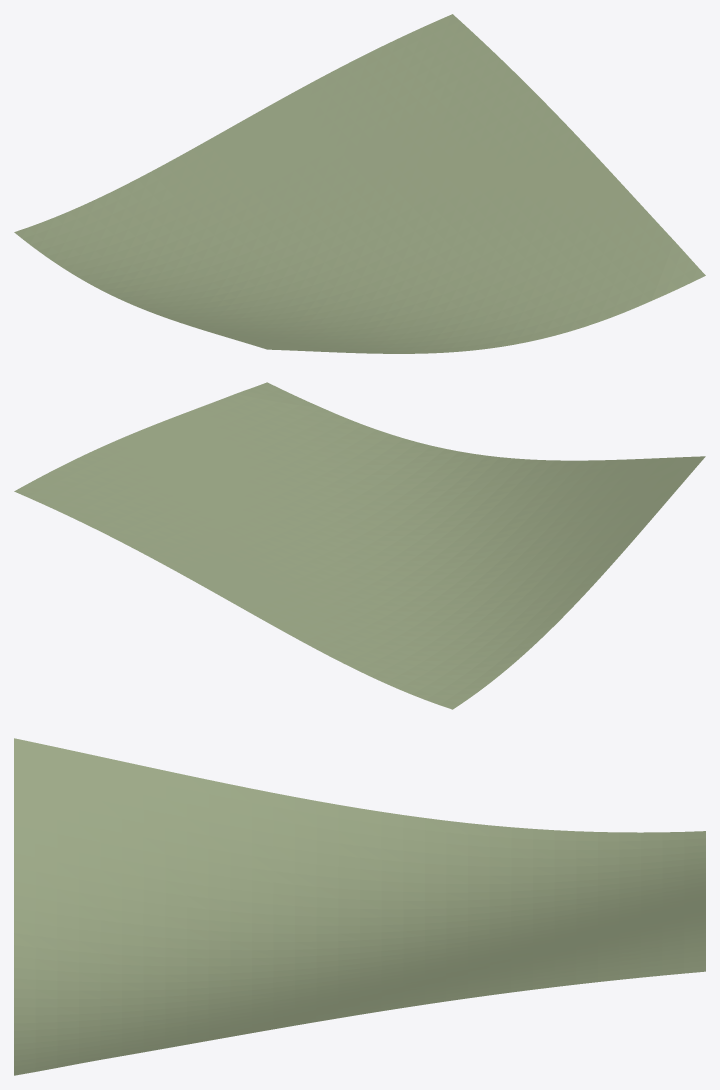
The model's file is expanse-10-11.glb.
3 views of the same model, one above another, from view 1: azimuth 30°, elevation 25°; view 2: azimuth 150°, elevation 25°; view 3: azimuth 270°, elevation 25° (orthographic). The views are drawn at different scales.
Parts seen in each view (by area): view 1: expanse-10-11; view 2: expanse-10-11; view 3: expanse-10-11.
Boxes of the visible parts, box(x1,y1,x2,y2) form: expanse-10-11: box(14, 14, 705, 353); expanse-10-11: box(14, 382, 705, 709); expanse-10-11: box(14, 738, 705, 1075).
Bounding box in the file's own units: 256 × 62.58 × 256.
